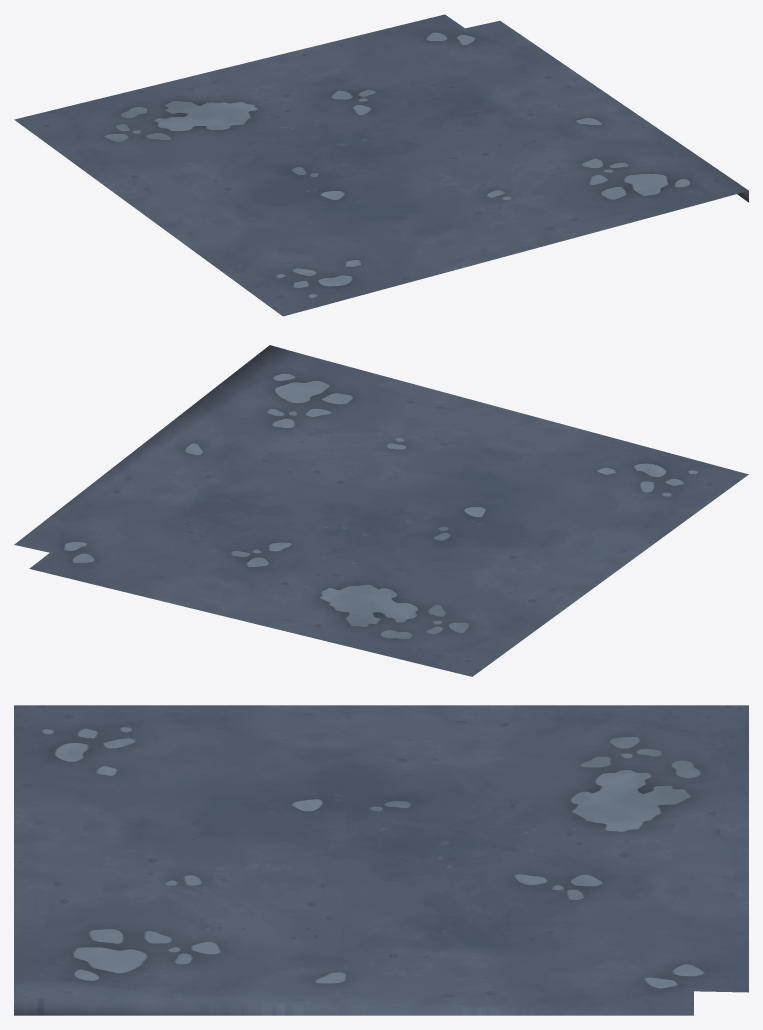
File: dungeon_ground_corner1.FBX
3 renders of one model, top to bottom at view 1: azimuth 30°, elevation 25°; view 2: azimuth 150°, elevation 25°; view 3: azimuth 270°, elevation 25°, orthographic. The views are drawn at different scales.
Visible parts, largest first — view 1: corner1; view 2: corner1; view 3: corner1.
Boxes of the visible parts, left/top/right/bottom form: corner1: left=14, top=14, right=748, bottom=316; corner1: left=14, top=345, right=748, bottom=676; corner1: left=14, top=705, right=748, bottom=1015.
Size of the model in its own units: 1000 by 25 by 1000.
Materials: 1 (1 with a texture image).
